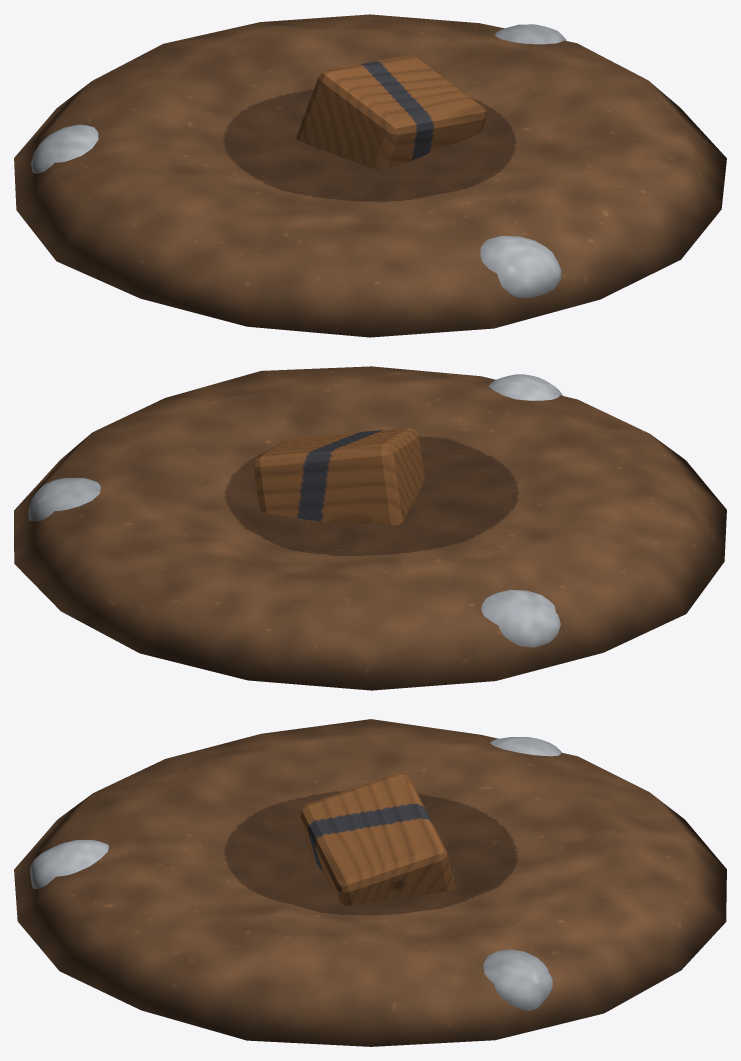
The model's file is rune_cache.glb.
3 renders of one model, top to bottom at view 1: azimuth 30°, elevation 25°; view 2: azimuth 150°, elevation 25°; view 3: azimuth 270°, elevation 25°, orthographic.
Parts seen in each view (by area): view 1: RuneCache; view 2: RuneCache; view 3: RuneCache.
Boxes of the visible parts, x1,y1,x2,y2 form: RuneCache: (14, 14, 726, 337); RuneCache: (14, 366, 726, 690); RuneCache: (14, 719, 726, 1046).
Bounding box in the file's own units: 1.48 × 0.2901 × 1.46.
1 material, 1 textured.
